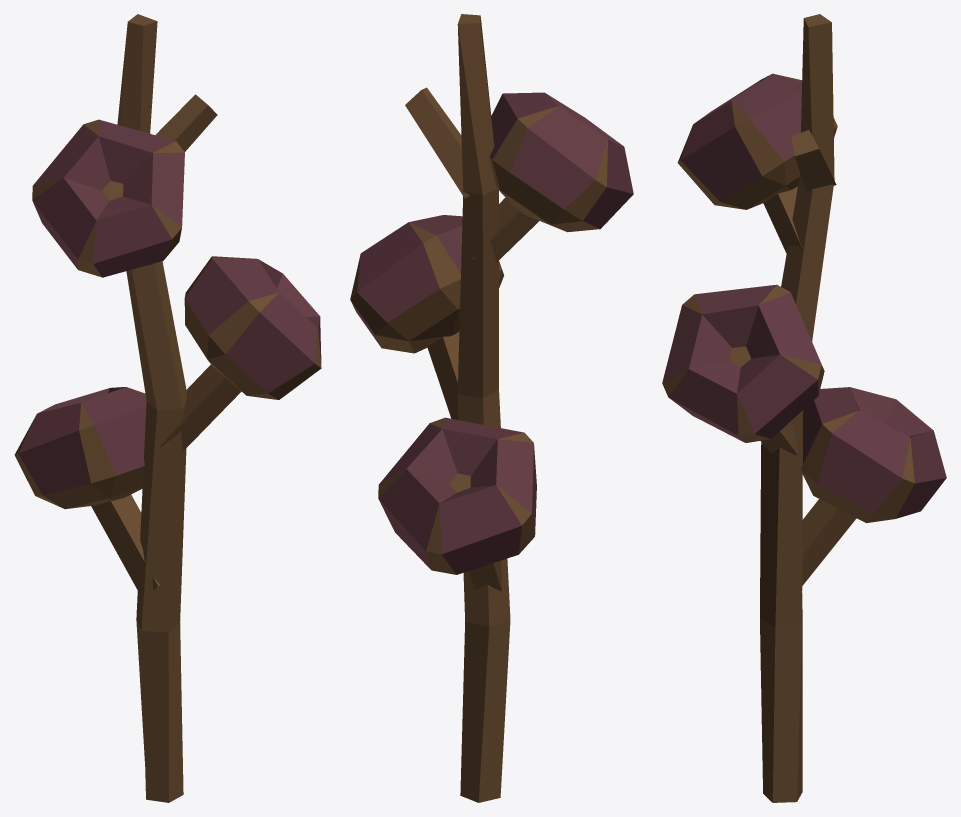
File: cotton.fbx
3 renders of one model, left to right at view 1: azimuth 30°, elevation 25°; view 2: azimuth 150°, elevation 25°; view 3: azimuth 270°, elevation 25°, orthographic. The views are drawn at different scales.
Parts seen in each view (by area): view 1: cotton; view 2: cotton; view 3: cotton.
Part boxes in pixels (bbox=[...]): cotton: bbox=[14, 14, 321, 802]; cotton: bbox=[350, 14, 633, 802]; cotton: bbox=[662, 14, 946, 802].
Size of the model in its own units: 0.293 by 0.8181 by 0.2731.
